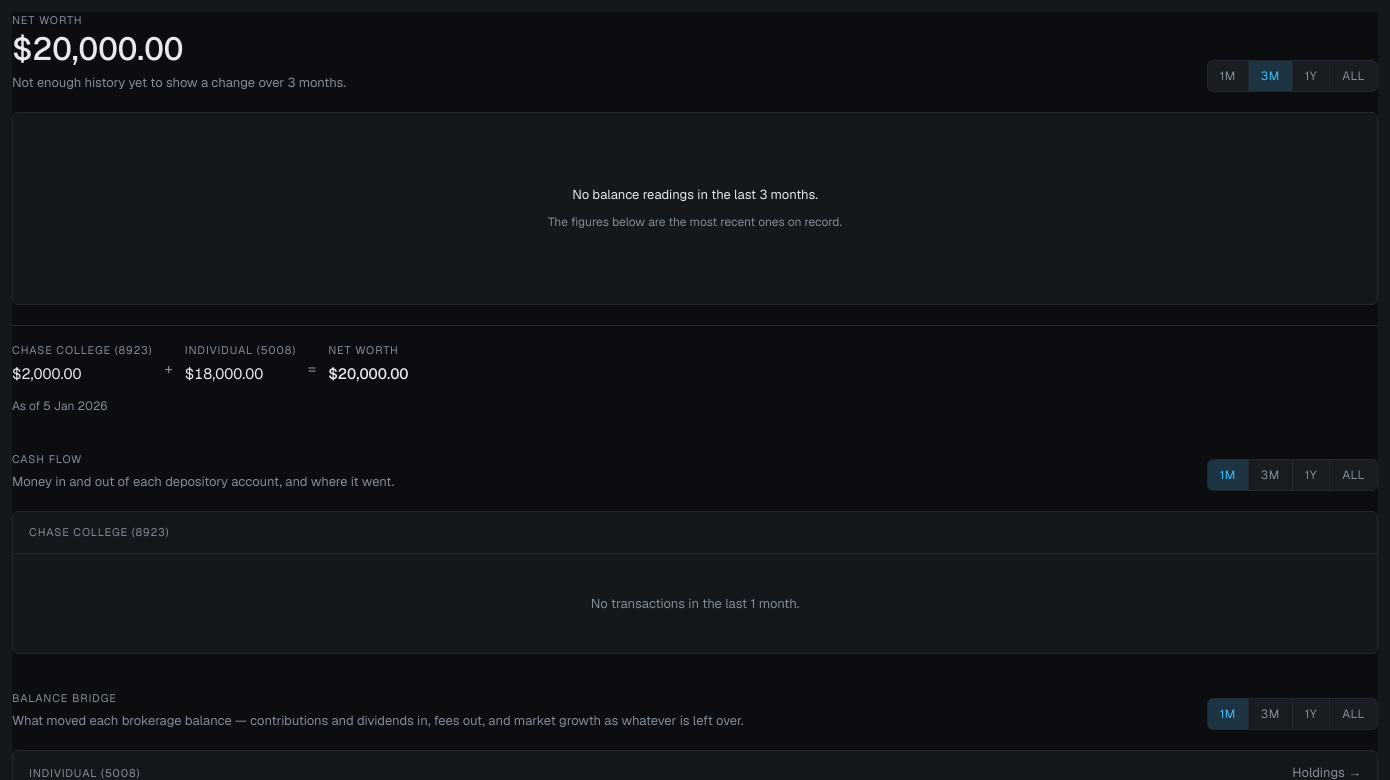
Test: the financials overview › keeps showing the real balances when the chosen range has no snapshots in it
Step 1. Click the 1st button "1M" → (1228, 76), box [1208, 61, 1248, 91]
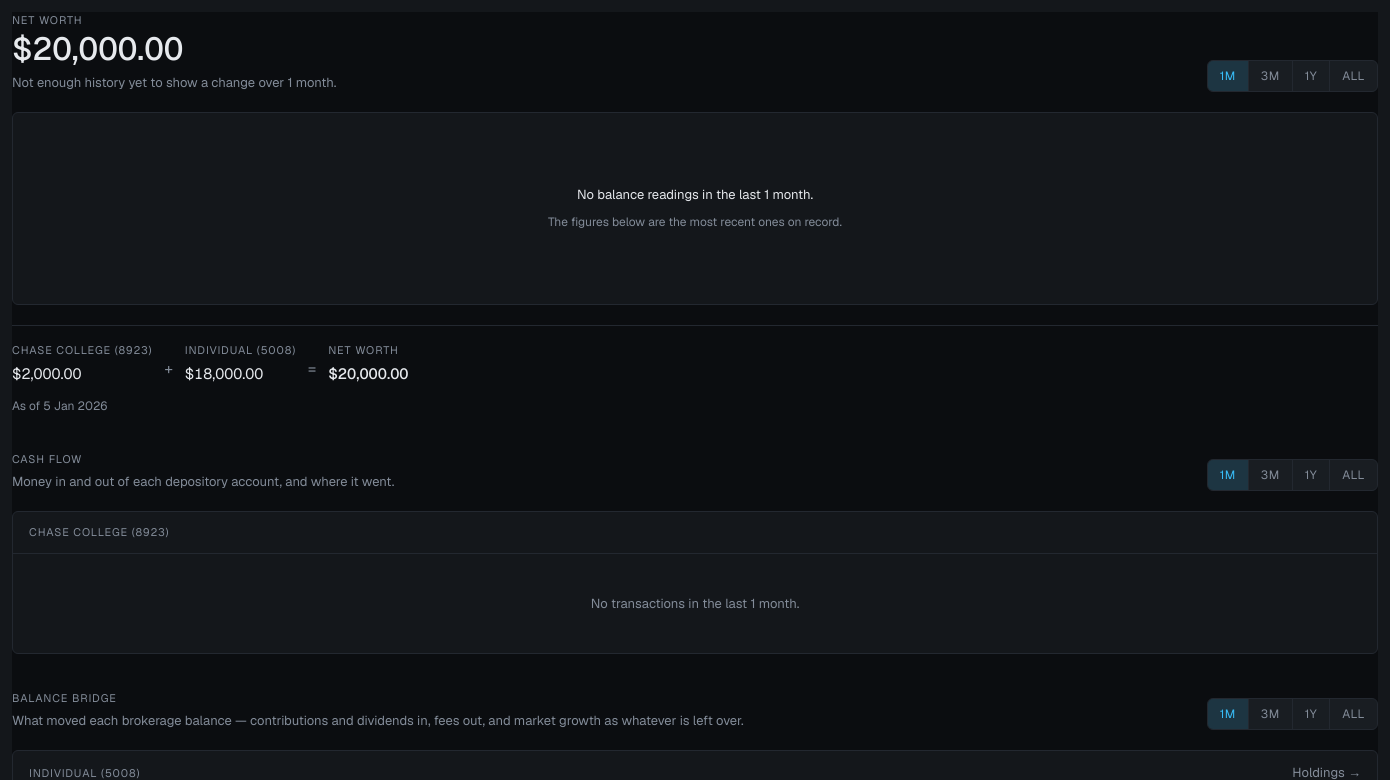
Expected: the text "No balance readings in the last 1 month." is shown, [577, 185, 813, 204]
